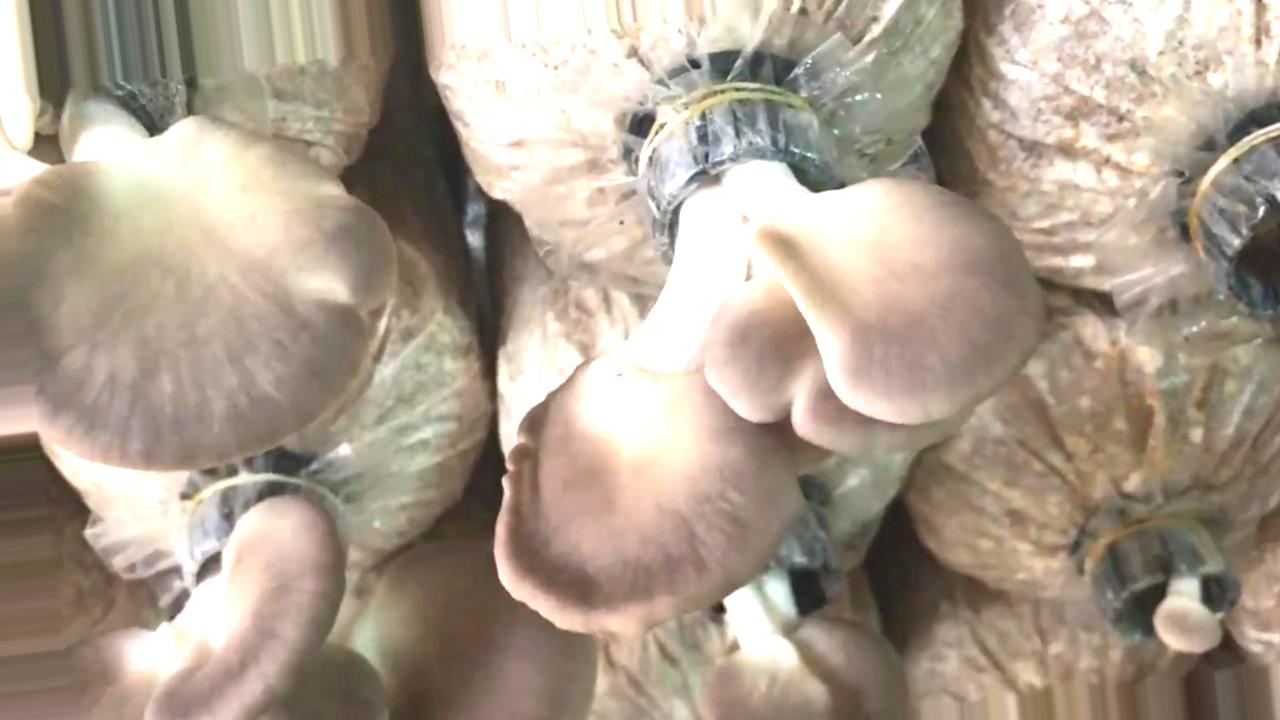nam: (500, 99, 1045, 634), (1, 78, 392, 470), (6, 474, 594, 720), (705, 499, 906, 720), (1092, 513, 1241, 652)
